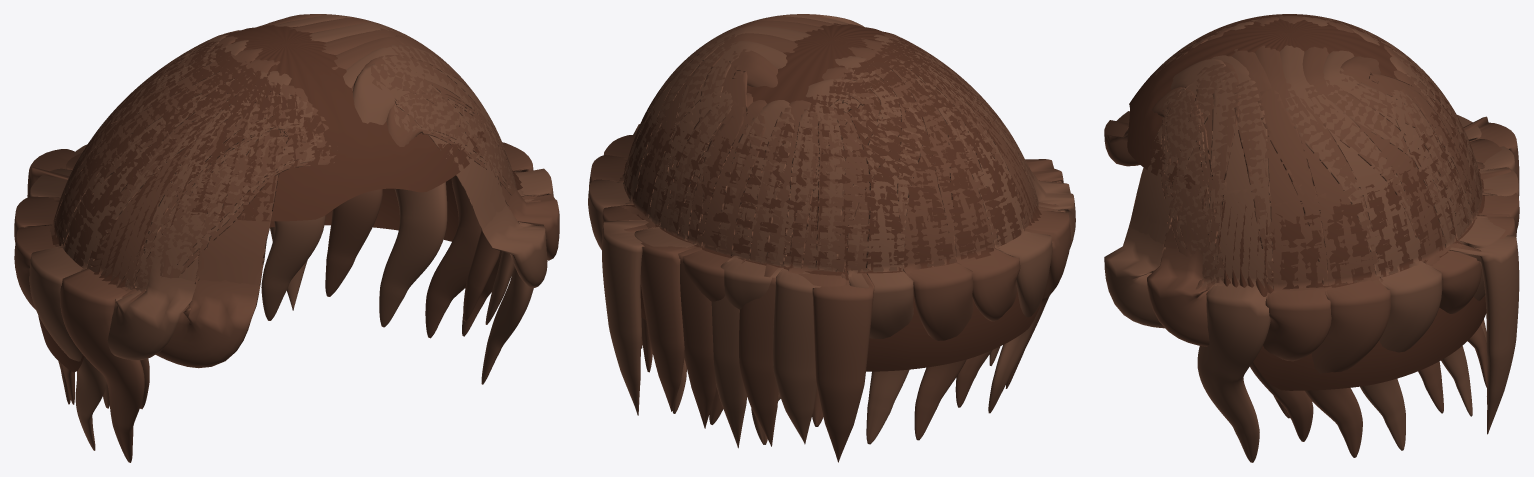
The model's file is Masculine-flow-beanie251-hair.glb.
The picture shows the model from 3 angles, left to right: view 1: azimuth 30°, elevation 25°; view 2: azimuth 150°, elevation 25°; view 3: azimuth 270°, elevation 25°; orthographic projection. The views are drawn at different scales.
Parts seen in each view (by area): view 1: 226 hair / Hair / main251.001, 226 hair / Hair / accent251.001, 226 hair / Hair / recessed roots251.001; view 2: 226 hair / Hair / main251.001, 226 hair / Hair / accent251.001, 226 hair / Hair / recessed roots251.001; view 3: 226 hair / Hair / main251.001, 226 hair / Hair / accent251.001, 226 hair / Hair / recessed roots251.001.
Boxes of the visible parts, left/top/right/bottom form: 226 hair / Hair / main251.001: left=14, top=14, right=559, bottom=462; 226 hair / Hair / accent251.001: left=29, top=14, right=553, bottom=450; 226 hair / Hair / recessed roots251.001: left=38, top=25, right=522, bottom=372; 226 hair / Hair / main251.001: left=589, top=14, right=1070, bottom=462; 226 hair / Hair / accent251.001: left=588, top=14, right=1075, bottom=448; 226 hair / Hair / recessed roots251.001: left=619, top=23, right=1044, bottom=371; 226 hair / Hair / main251.001: left=1104, top=14, right=1519, bottom=457; 226 hair / Hair / accent251.001: left=1104, top=14, right=1519, bottom=462; 226 hair / Hair / recessed roots251.001: left=1127, top=14, right=1486, bottom=390.
Size of the model in its own units: 1.11 by 0.832 by 0.8725.
